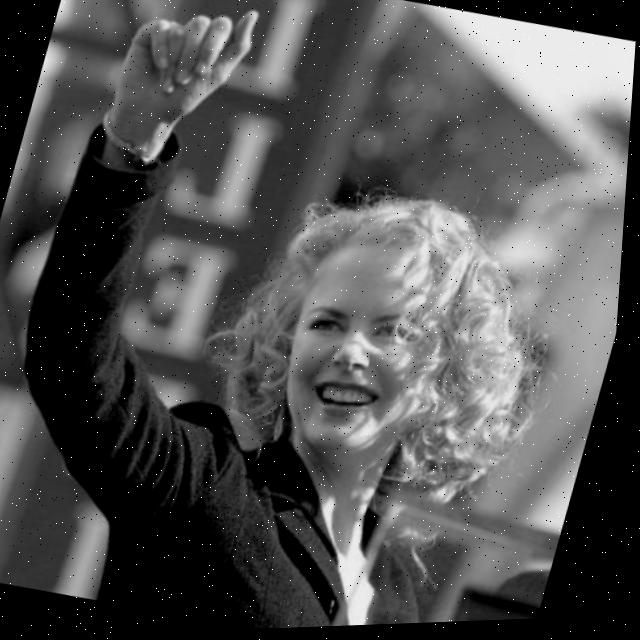face: (262, 218, 451, 470)
